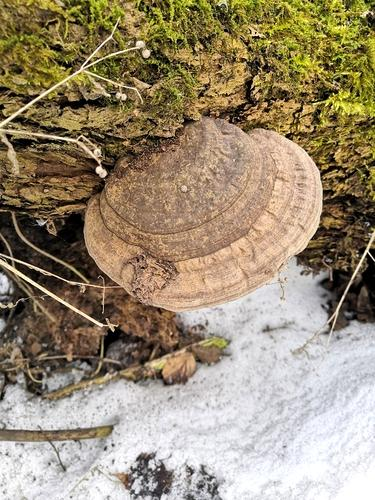Ganoderma - Fruit Body: (69, 121, 335, 312)
